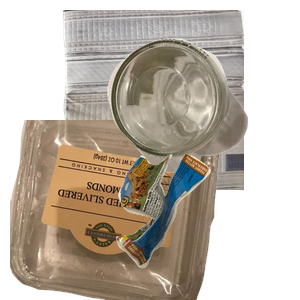glass: (105, 36, 300, 201)
paper: (60, 10, 300, 190)
plastic: (10, 120, 227, 300)
trash: (114, 151, 300, 300)
